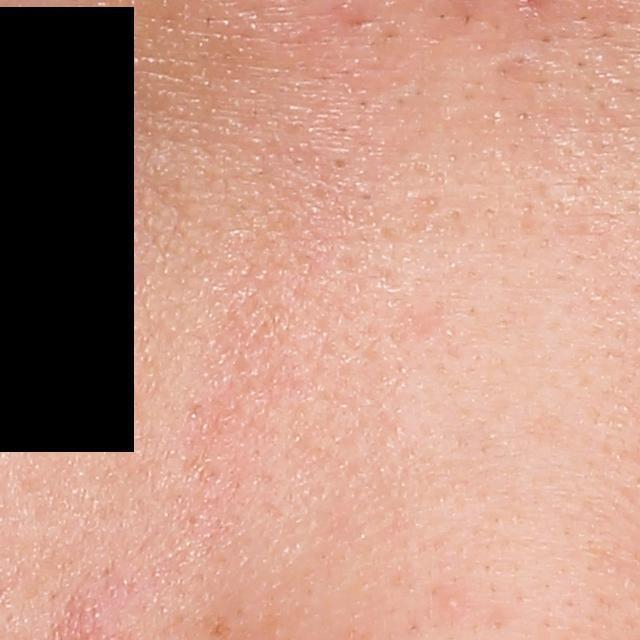comedo: (510, 52, 532, 71), (443, 594, 463, 613), (328, 154, 349, 172)
